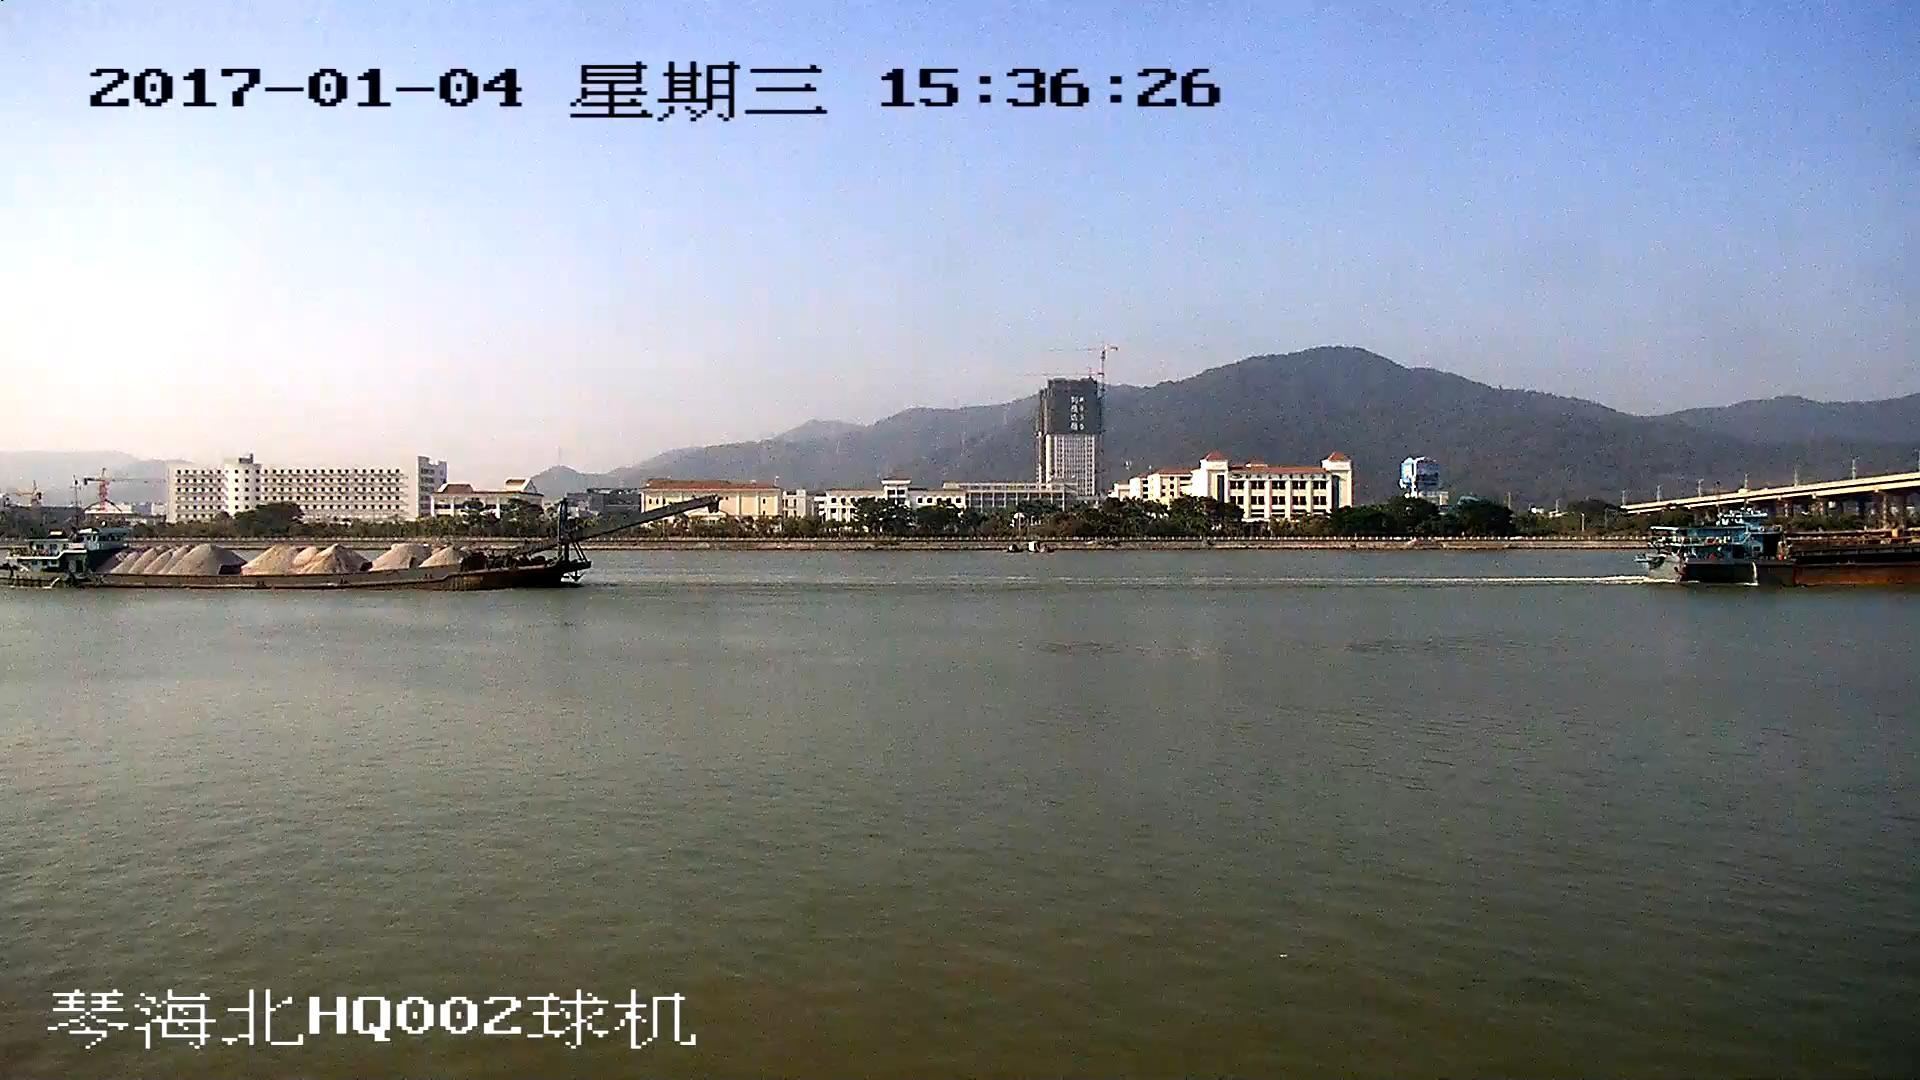Ship: (3, 498, 712, 593), (1647, 525, 1920, 585)
